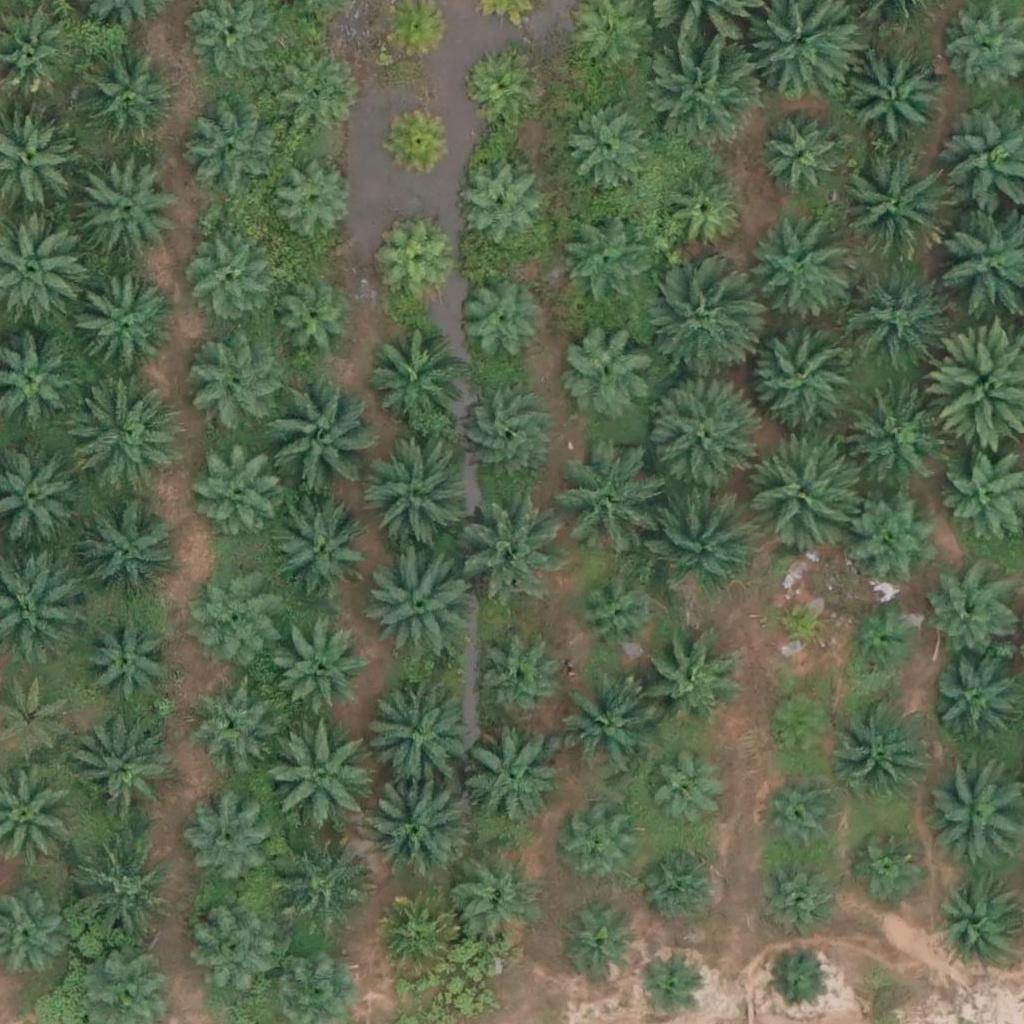Kelapa_Sawit: (357, 545, 470, 659), (835, 150, 948, 263), (839, 262, 952, 375), (746, 317, 859, 430), (643, 378, 756, 491), (362, 772, 475, 885), (354, 676, 467, 789), (66, 275, 179, 388), (67, 384, 180, 497), (650, 35, 763, 148), (643, 480, 755, 594), (360, 441, 472, 555), (262, 718, 374, 832), (739, 218, 851, 331), (744, 435, 856, 548), (641, 269, 753, 382), (454, 486, 566, 599), (258, 380, 370, 493), (62, 841, 174, 954), (843, 383, 943, 484), (845, 484, 945, 585), (637, 632, 737, 733), (551, 681, 651, 782), (551, 453, 651, 554), (461, 729, 561, 830), (364, 329, 464, 430), (267, 497, 367, 598), (269, 834, 369, 935), (188, 334, 288, 435), (77, 154, 177, 255), (71, 727, 171, 828), (846, 47, 946, 148), (77, 46, 177, 147), (184, 98, 284, 199), (836, 698, 936, 799), (558, 319, 658, 419), (456, 387, 556, 487), (78, 502, 177, 603), (925, 571, 1013, 659), (750, 854, 838, 942), (369, 892, 457, 980), (658, 168, 746, 256), (572, 570, 660, 658), (453, 161, 541, 249), (279, 630, 367, 718), (181, 798, 269, 886), (179, 233, 267, 321), (275, 59, 363, 147), (758, 113, 846, 201), (928, 658, 1015, 747), (558, 218, 645, 307), (192, 905, 279, 994), (760, 773, 847, 861), (455, 277, 542, 365), (477, 639, 564, 727), (454, 859, 541, 947), (271, 157, 358, 245), (268, 281, 355, 369), (182, 676, 269, 764), (191, 564, 278, 652), (194, 449, 281, 537), (85, 615, 172, 703), (565, 101, 652, 189), (460, 47, 535, 123), (643, 756, 718, 832), (645, 844, 720, 920), (844, 604, 919, 680), (763, 691, 838, 767), (377, 227, 452, 303), (382, 100, 457, 176), (851, 826, 926, 901), (563, 811, 638, 886), (561, 911, 636, 986), (634, 952, 697, 1015), (767, 948, 829, 1011), (770, 592, 832, 655)
